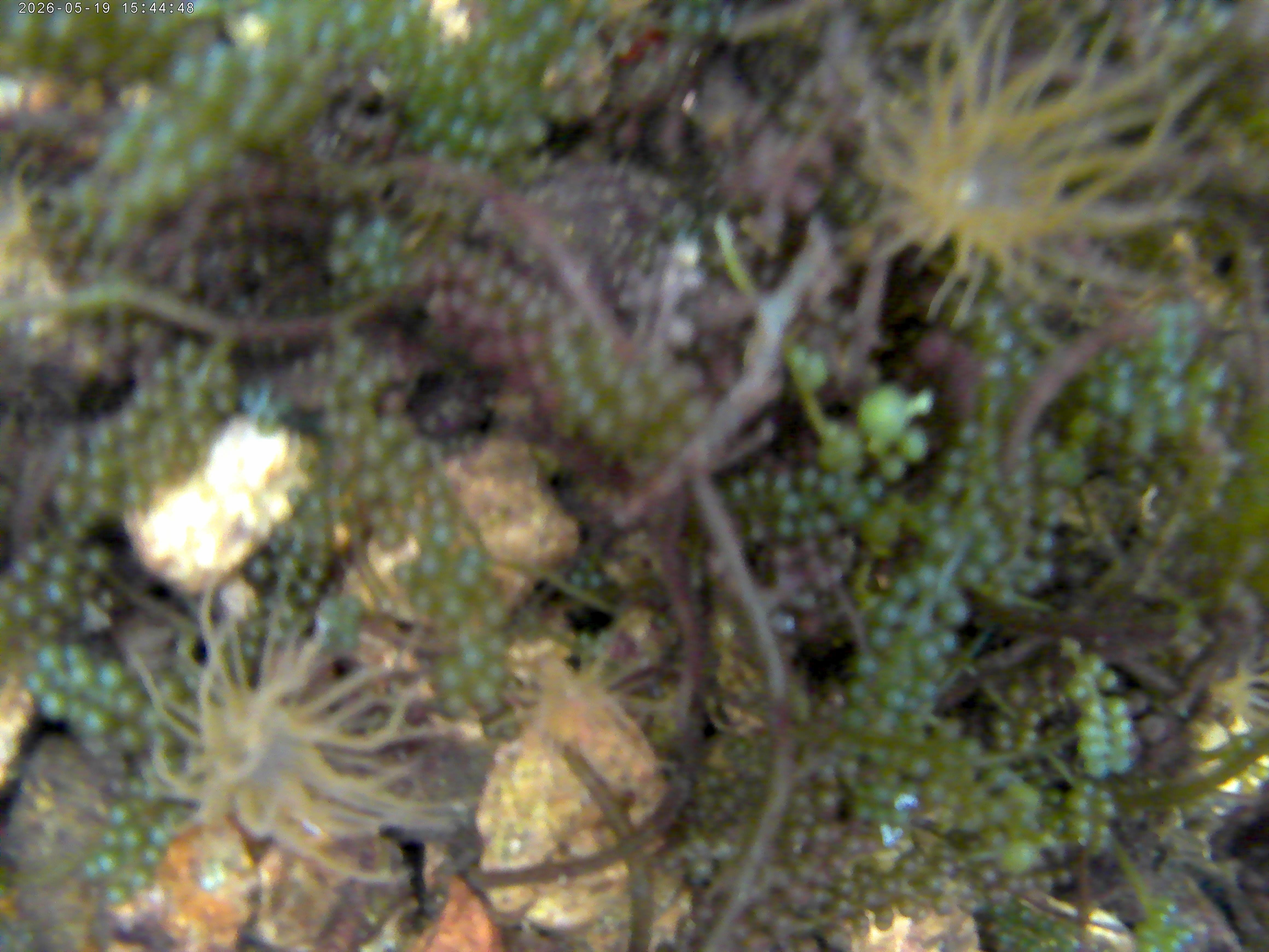Darkening: (534, 388, 562, 420), (489, 338, 521, 365), (687, 898, 716, 923), (259, 171, 283, 201), (467, 339, 491, 368), (429, 294, 452, 324), (460, 263, 486, 289), (616, 120, 641, 147), (519, 336, 547, 360), (426, 264, 453, 288), (816, 790, 839, 814), (1066, 561, 1091, 583), (842, 834, 868, 855), (494, 311, 517, 333), (521, 365, 543, 387), (1008, 684, 1030, 706), (275, 205, 293, 231), (225, 216, 243, 242), (774, 915, 796, 936), (788, 826, 810, 847), (299, 158, 324, 176), (786, 883, 808, 903), (772, 546, 792, 568), (467, 308, 487, 329), (810, 826, 833, 844), (825, 561, 845, 581), (249, 207, 265, 232), (753, 905, 773, 925), (1035, 665, 1055, 685), (454, 295, 475, 314), (826, 540, 847, 559), (1036, 872, 1055, 893), (749, 523, 768, 543), (422, 414, 441, 433), (252, 255, 270, 275), (808, 555, 826, 572), (800, 538, 819, 554), (809, 843, 830, 856), (830, 692, 846, 709), (829, 855, 846, 870), (815, 567, 829, 585), (800, 812, 815, 826)
Harvestable: (853, 393, 913, 441), (103, 129, 144, 173), (155, 162, 197, 201), (146, 116, 185, 158), (187, 140, 230, 177), (4, 9, 41, 48), (42, 8, 78, 47), (200, 39, 236, 78), (170, 54, 207, 90), (227, 107, 264, 142), (93, 658, 133, 689), (203, 74, 238, 107), (998, 841, 1035, 872), (868, 510, 901, 544), (1069, 409, 1102, 442), (144, 10, 176, 44), (33, 643, 65, 675), (897, 429, 928, 461), (537, 4, 566, 38), (41, 577, 72, 608), (1106, 382, 1135, 415), (85, 458, 120, 485), (190, 416, 220, 447), (83, 544, 113, 574), (345, 2, 375, 32), (939, 599, 970, 628), (37, 691, 70, 718), (114, 688, 144, 717), (47, 551, 76, 581), (11, 591, 40, 620), (1014, 783, 1043, 812), (958, 806, 988, 834), (318, 22, 347, 50), (354, 475, 384, 502), (836, 430, 863, 460), (53, 481, 80, 511), (391, 483, 423, 508), (804, 355, 829, 387), (1160, 411, 1188, 439), (361, 438, 389, 466), (486, 599, 513, 628), (116, 724, 145, 751), (459, 86, 484, 117), (145, 452, 172, 480), (429, 522, 457, 549), (110, 801, 138, 828), (929, 526, 957, 553), (471, 678, 499, 705), (521, 118, 548, 146), (1127, 428, 1155, 455), (332, 210, 357, 240), (89, 426, 116, 453), (1146, 908, 1173, 935), (976, 539, 1003, 566), (11, 559, 38, 586), (84, 711, 112, 737), (485, 630, 511, 658), (1200, 365, 1226, 393), (436, 664, 461, 693), (411, 588, 437, 615), (419, 550, 445, 577), (36, 612, 63, 638), (985, 799, 1012, 825), (967, 506, 993, 533), (327, 249, 354, 275), (62, 641, 89, 667), (97, 852, 125, 877), (441, 593, 470, 617), (192, 0, 223, 22), (881, 455, 906, 482), (276, 553, 301, 580), (939, 469, 964, 495), (247, 556, 272, 582), (785, 344, 810, 370), (977, 434, 1002, 460), (124, 480, 150, 505), (402, 446, 427, 472), (989, 331, 1016, 355), (427, 478, 450, 506), (960, 564, 988, 587), (392, 560, 417, 585), (149, 824, 174, 849), (1154, 325, 1179, 350), (119, 410, 144, 435), (389, 17, 414, 42), (846, 703, 870, 729), (962, 483, 988, 507), (1042, 485, 1068, 509), (24, 539, 48, 565), (424, 108, 448, 134), (989, 765, 1015, 789), (1163, 384, 1187, 410), (1077, 718, 1104, 741), (446, 119, 473, 142), (444, 696, 469, 720), (879, 601, 903, 626), (939, 718, 964, 742), (1194, 398, 1218, 423), (994, 585, 1019, 609), (1014, 302, 1039, 326), (456, 564, 481, 588), (368, 216, 392, 241), (175, 340, 199, 365), (129, 866, 155, 889), (94, 489, 118, 513), (461, 647, 485, 671), (1082, 379, 1106, 403), (75, 572, 99, 596), (463, 544, 487, 568), (138, 706, 162, 730), (918, 640, 941, 665), (151, 357, 174, 382), (85, 736, 110, 759), (71, 670, 97, 692), (669, 4, 691, 30), (504, 0, 531, 21), (915, 674, 938, 698), (1064, 791, 1088, 814), (846, 497, 870, 520), (430, 140, 453, 164), (983, 828, 1007, 851), (380, 418, 403, 442), (1034, 531, 1056, 556), (360, 243, 382, 268), (1078, 738, 1104, 759), (909, 754, 932, 777), (946, 447, 969, 470), (857, 653, 880, 676), (927, 501, 950, 524), (960, 737, 983, 760), (981, 463, 1004, 486), (476, 579, 499, 602), (154, 423, 178, 445), (894, 576, 916, 600), (992, 564, 1016, 586), (379, 522, 402, 544), (963, 424, 985, 447), (985, 357, 1008, 379), (814, 513, 837, 535), (868, 744, 891, 766), (1148, 372, 1171, 394), (820, 421, 842, 444), (1009, 466, 1032, 488), (63, 520, 86, 542), (344, 274, 366, 297), (1105, 697, 1129, 718), (692, 11, 713, 35), (105, 883, 131, 902), (870, 627, 892, 649), (925, 781, 947, 803), (432, 499, 454, 521), (1035, 431, 1057, 453), (305, 493, 327, 515), (1134, 349, 1156, 371), (184, 393, 206, 415), (214, 391, 236, 413), (485, 44, 507, 66), (848, 678, 869, 701), (781, 492, 802, 515), (368, 267, 389, 290), (82, 858, 103, 881), (386, 263, 407, 286), (63, 452, 83, 476), (101, 827, 122, 849), (1097, 800, 1119, 821), (241, 638, 262, 660), (886, 687, 909, 707), (24, 671, 47, 691), (468, 130, 488, 153), (1086, 757, 1110, 776), (136, 385, 154, 410), (0, 606, 15, 636), (1066, 680, 1087, 701), (1172, 924, 1193, 945), (142, 845, 163, 866), (854, 801, 875, 822), (1126, 465, 1147, 486), (298, 582, 319, 603), (868, 436, 889, 457), (967, 784, 988, 805), (156, 392, 178, 412), (1083, 653, 1103, 675), (820, 475, 840, 497), (586, 0, 613, 16), (1113, 718, 1134, 738), (1071, 818, 1091, 839), (776, 517, 796, 538), (871, 783, 892, 803), (1114, 360, 1134, 381), (799, 467, 819, 488), (890, 747, 910, 768), (126, 776, 146, 797), (1180, 328, 1200, 349), (51, 668, 71, 689), (692, 859, 712, 880), (1081, 701, 1103, 720), (68, 702, 87, 724), (864, 477, 883, 499), (0, 581, 19, 603), (127, 454, 143, 480), (1112, 735, 1138, 751), (222, 370, 245, 388), (124, 828, 144, 848), (485, 663, 506, 682), (1036, 561, 1055, 582), (1018, 574, 1039, 593), (409, 0, 432, 17), (882, 707, 902, 726), (1042, 509, 1062, 528), (750, 471, 769, 491), (881, 769, 901, 788), (144, 781, 163, 801), (945, 790, 965, 809), (324, 414, 343, 434), (939, 633, 957, 654), (1111, 755, 1132, 773), (1100, 669, 1116, 692), (908, 729, 927, 748), (1101, 349, 1120, 368), (916, 567, 934, 587), (730, 480, 748, 500), (774, 472, 792, 492), (1162, 936, 1184, 952), (78, 511, 103, 525), (840, 759, 859, 777), (1078, 780, 1097, 798), (1235, 735, 1254, 753), (1017, 503, 1036, 521), (476, 154, 494, 173), (989, 486, 1007, 505), (1001, 496, 1019, 515), (1177, 0, 1198, 16), (793, 791, 811, 809), (719, 794, 737, 812), (698, 791, 716, 809), (908, 712, 926, 730), (798, 518, 815, 536), (1024, 709, 1041, 727), (994, 719, 1012, 736), (705, 772, 722, 789), (560, 423, 577, 440), (1045, 789, 1063, 805), (1021, 728, 1038, 744), (570, 570, 586, 587), (653, 614, 669, 630), (371, 507, 385, 525), (587, 573, 603, 588), (980, 582, 996, 597), (1255, 765, 1269, 782), (1096, 789, 1112, 803), (905, 696, 919, 711), (1142, 941, 1159, 952)
